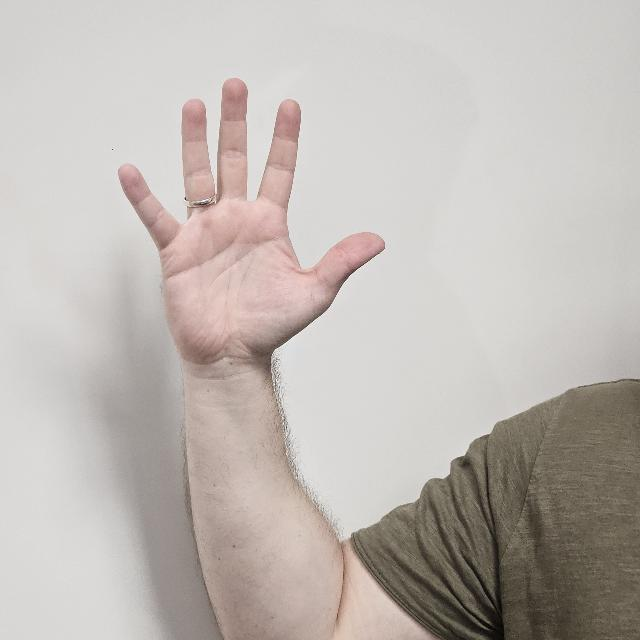X: (117, 77, 385, 457)
